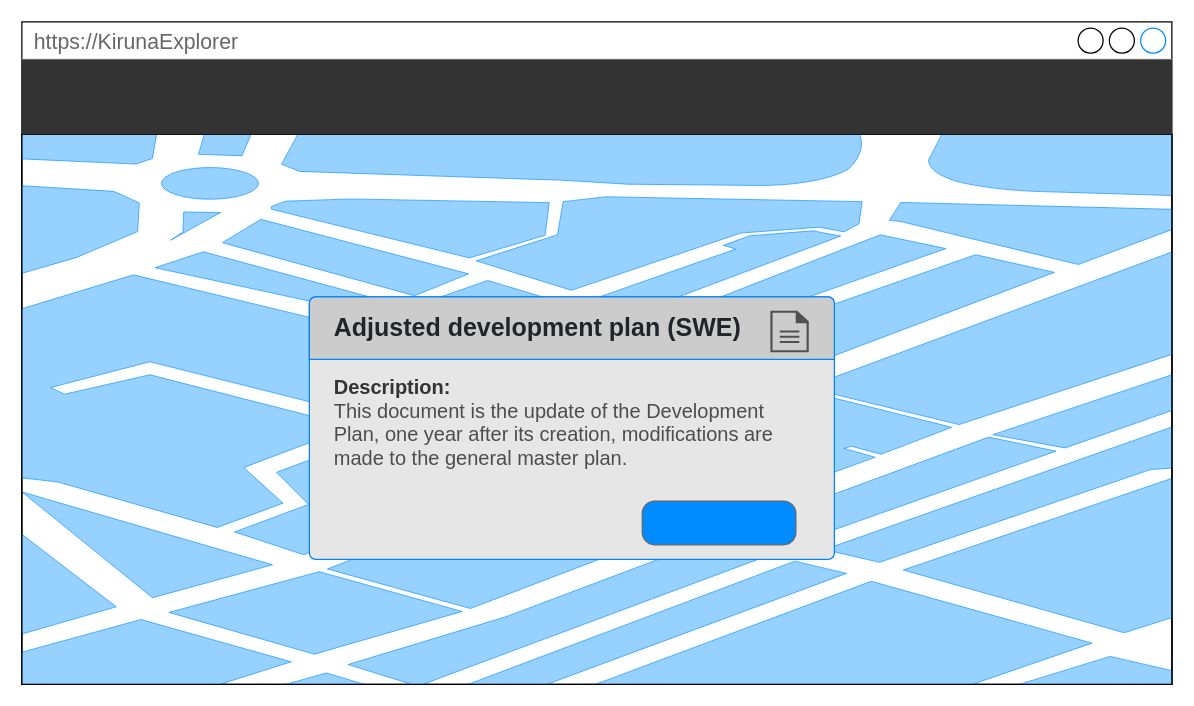
The diagram is 1194 pixels wide and 706 high, and some of its shapes have lost their labels. Here are the shapes that lost their labels. From the top down, the centre of each, then its label:
[596,96]: Kiruna Explorer
[718,522]: Go back
